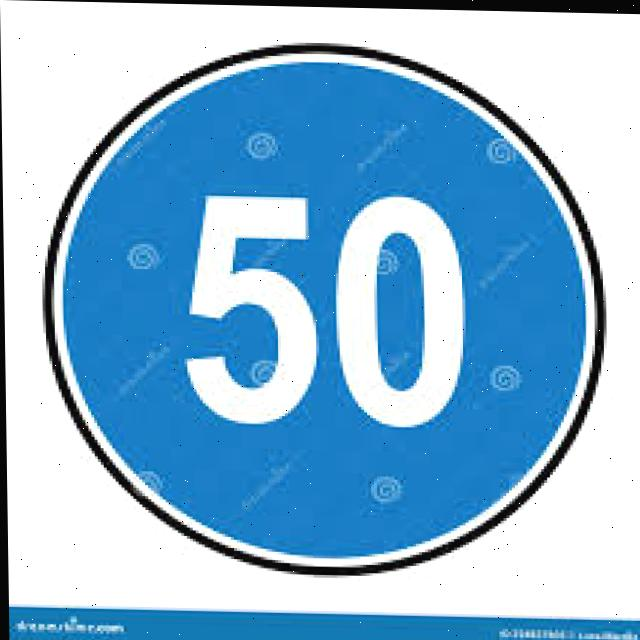Speed limit 50: (33, 54, 625, 589)
